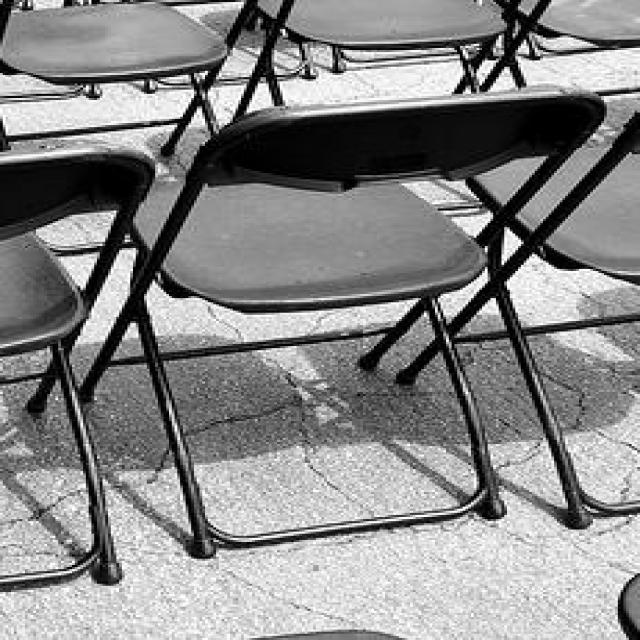chair: (72, 84, 607, 556), (0, 0, 227, 154)
